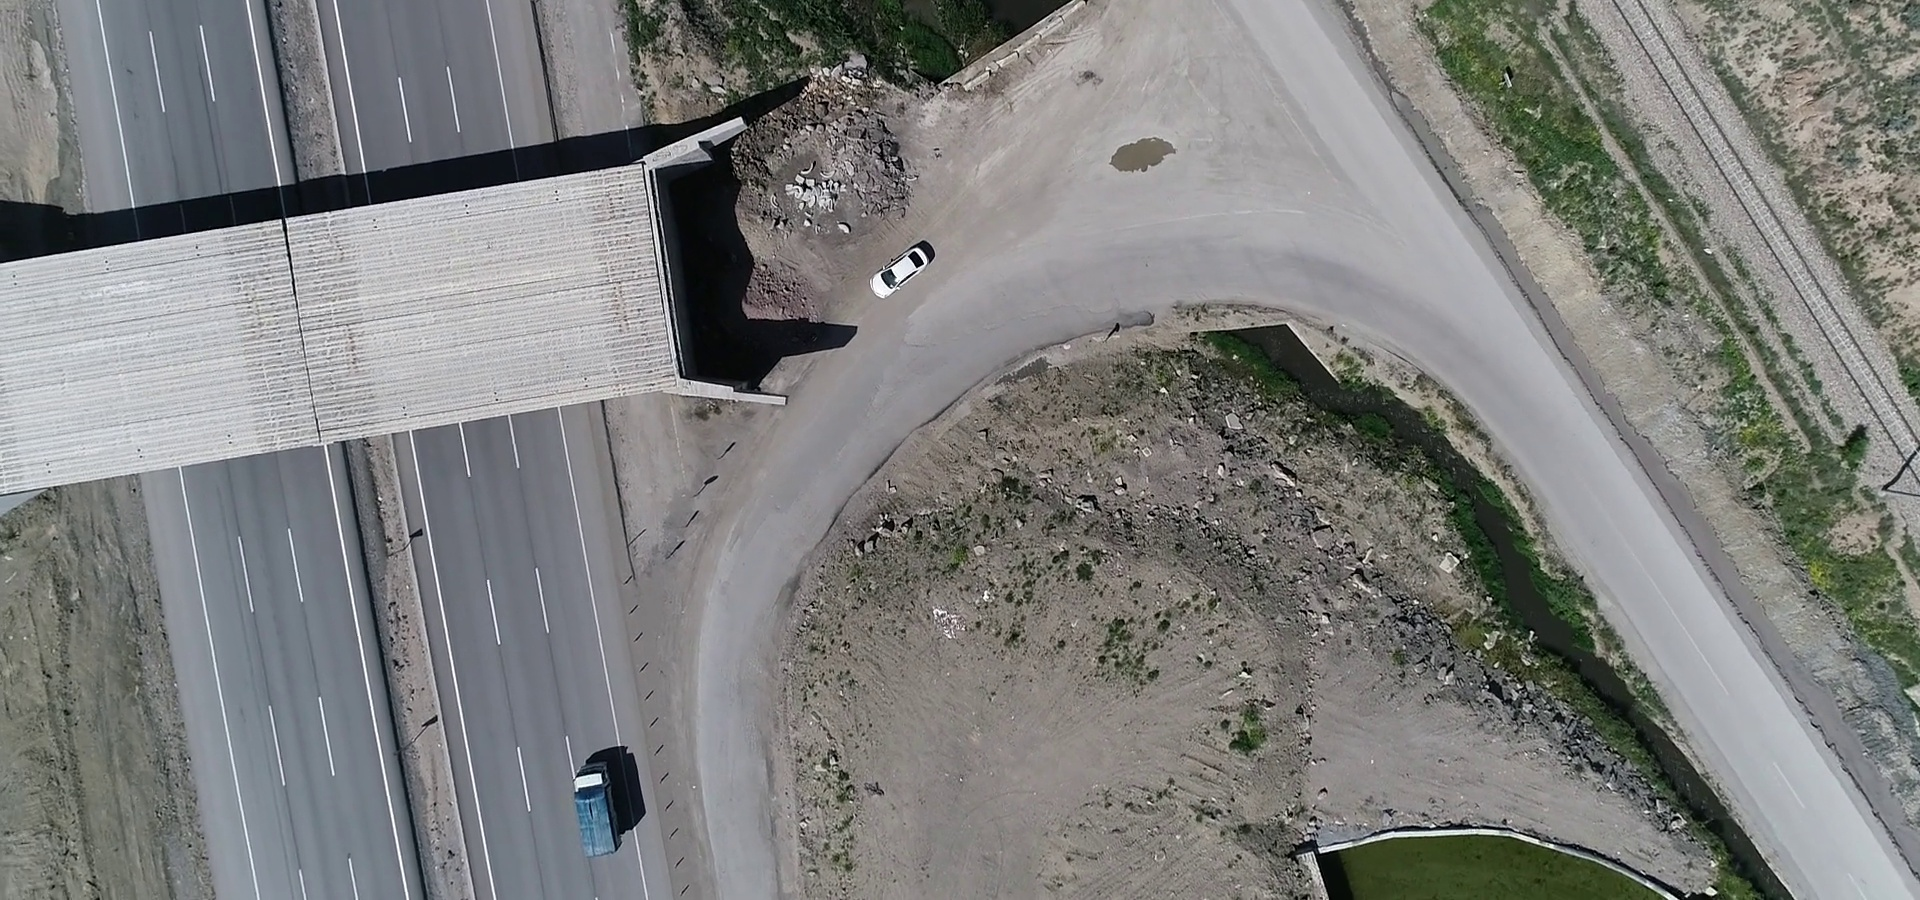araba: (860, 233, 936, 313)
kamyon: (576, 754, 624, 863)
